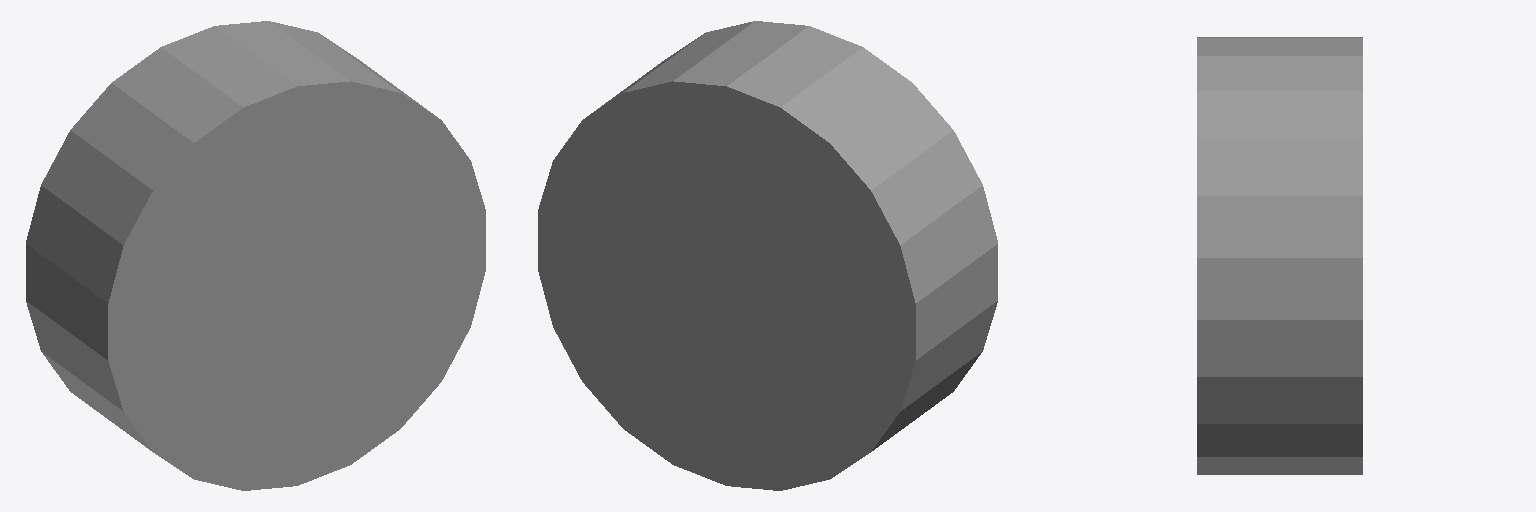
The model's file is wheelHULL.obj.
The picture shows the model from 3 angles: view 1: azimuth 30°, elevation 25°; view 2: azimuth 150°, elevation 25°; view 3: azimuth 270°, elevation 25°; orthographic projection.
Parts seen in each view (by area): view 1: Cylinder; view 2: Cylinder; view 3: Cylinder.
Boxes of the visible parts, x1=… form: Cylinder: x1=26, y1=21, x2=485, y2=490; Cylinder: x1=538, y1=21, x2=997, y2=490; Cylinder: x1=1197, y1=37, x2=1362, y2=474.
Size of the model in its own units: 0.7919 by 0.8 by 0.3.